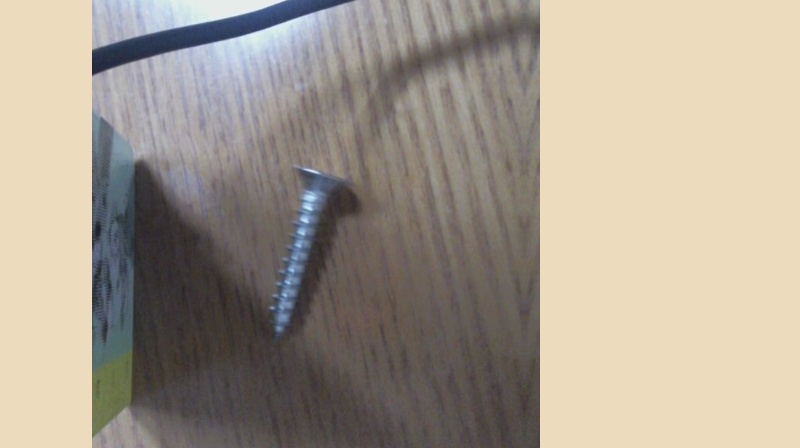S001: (261, 158, 349, 348)
